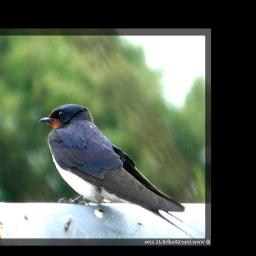Swallow: (38, 103, 203, 244)
